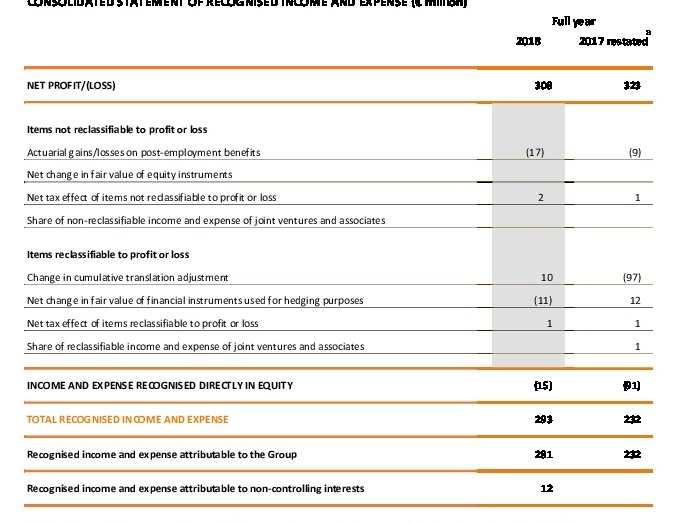table: (0, 0, 681, 522)
